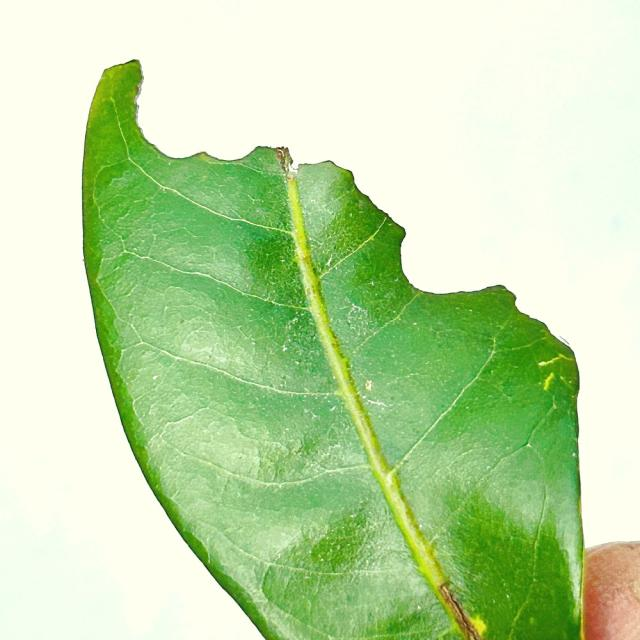Deficiency Leaf: (312, 161, 573, 356), (136, 58, 338, 164)
Lychee: (82, 60, 585, 639)
